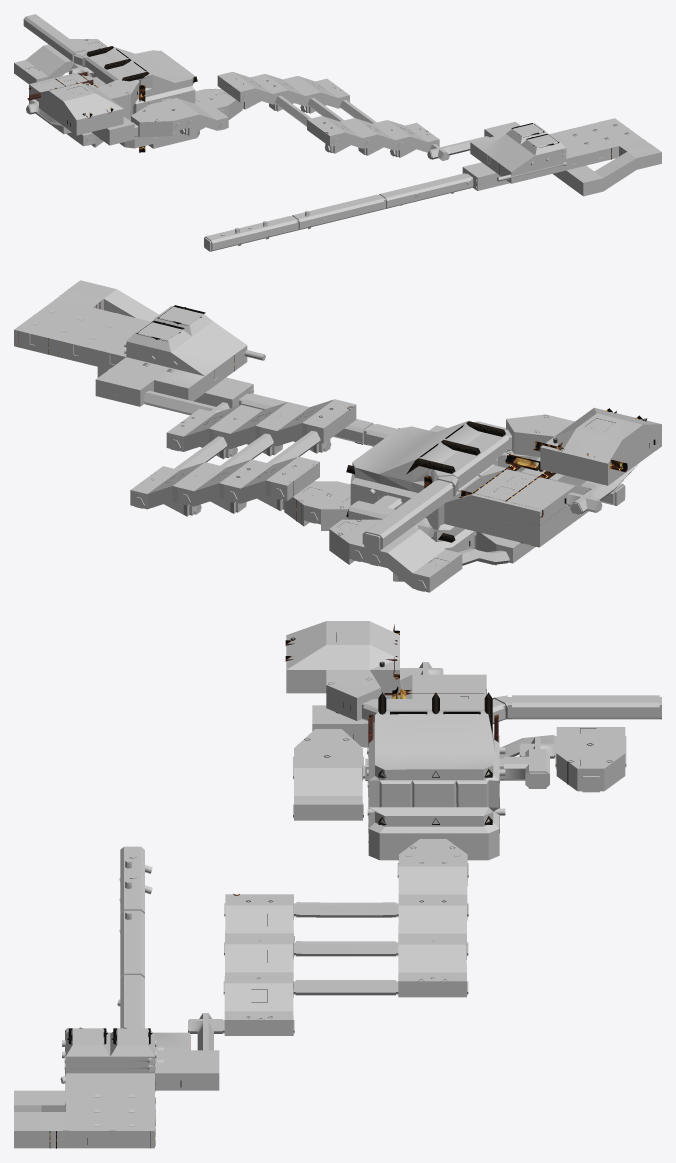
File: science-labs-DAE.DAE
3 renders of one model, top to bottom at view 1: azimuth 30°, elevation 25°; view 2: azimuth 150°, elevation 25°; view 3: azimuth 270°, elevation 25°, orthographic. The views are drawn at different scales.
Parts seen in each view (by area): view 1: krest_2_04, pipe08, Line12; view 2: krest_2_04, Line12; view 3: krest_2_04, pipe08.
Boxes of the visible parts, x1,y1,x2,y2 form: krest_2_04: (14,14,661,251); pipe08: (220,149,568,246); Line12: (86,46,197,82); krest_2_04: (14,280,661,592); Line12: (346,421,505,474); krest_2_04: (14,621,661,1148); pipe08: (60,855,156,1083).
Size of the model in its own units: 3375 by 2474 by 784.
